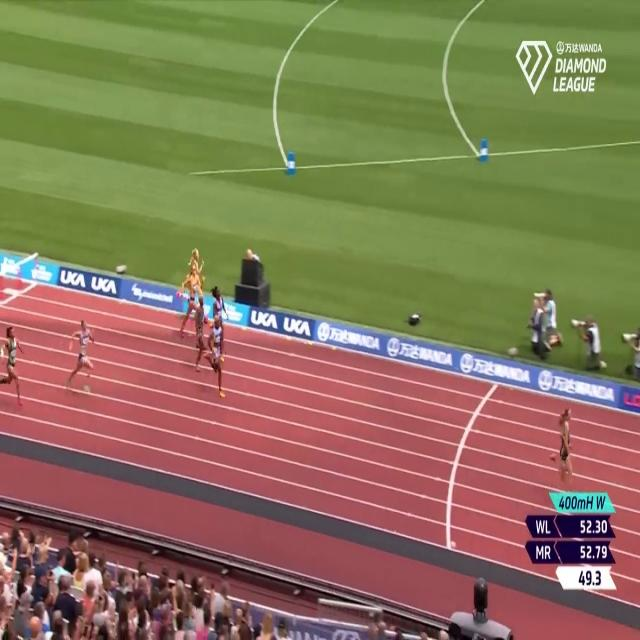athlete: (64, 312, 100, 405), (553, 392, 578, 497), (0, 323, 25, 416), (208, 305, 230, 403), (178, 262, 204, 342), (192, 290, 206, 374), (212, 286, 226, 352)
